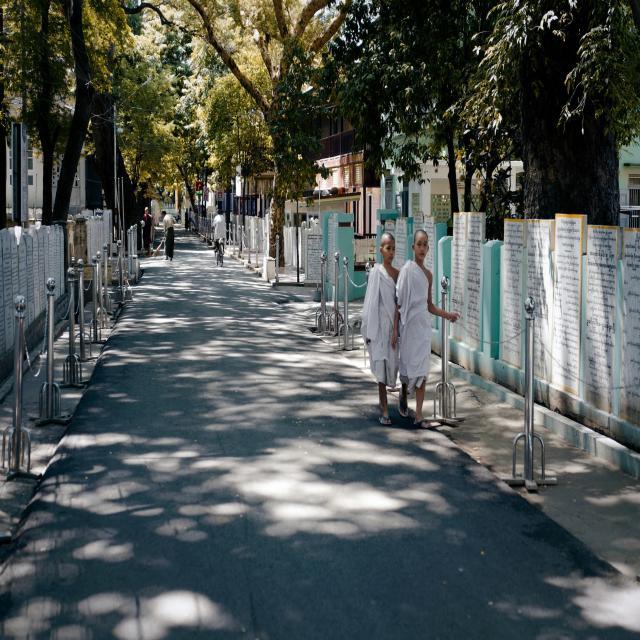adult: (391, 227, 460, 431), (363, 228, 404, 428), (162, 209, 177, 261), (142, 207, 154, 257), (212, 208, 225, 253)
